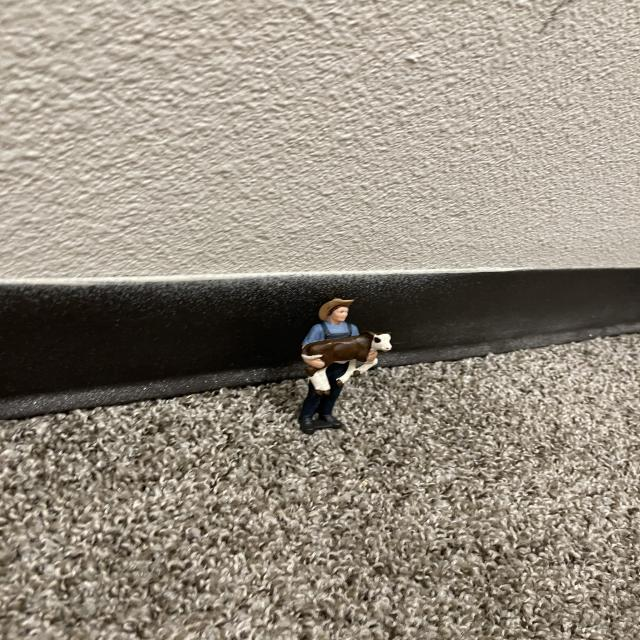cow: (301, 317, 403, 397)
person: (297, 293, 362, 345)
